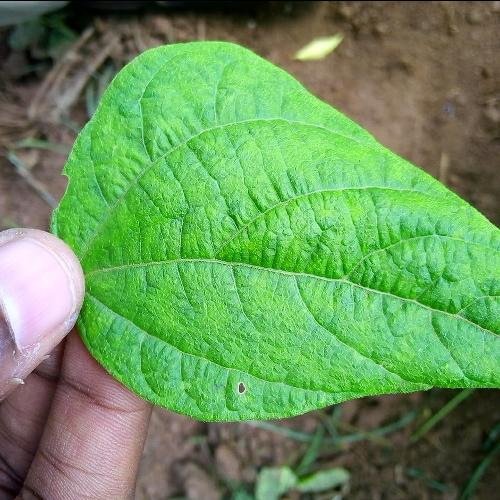sehat: (109, 64, 430, 414)
